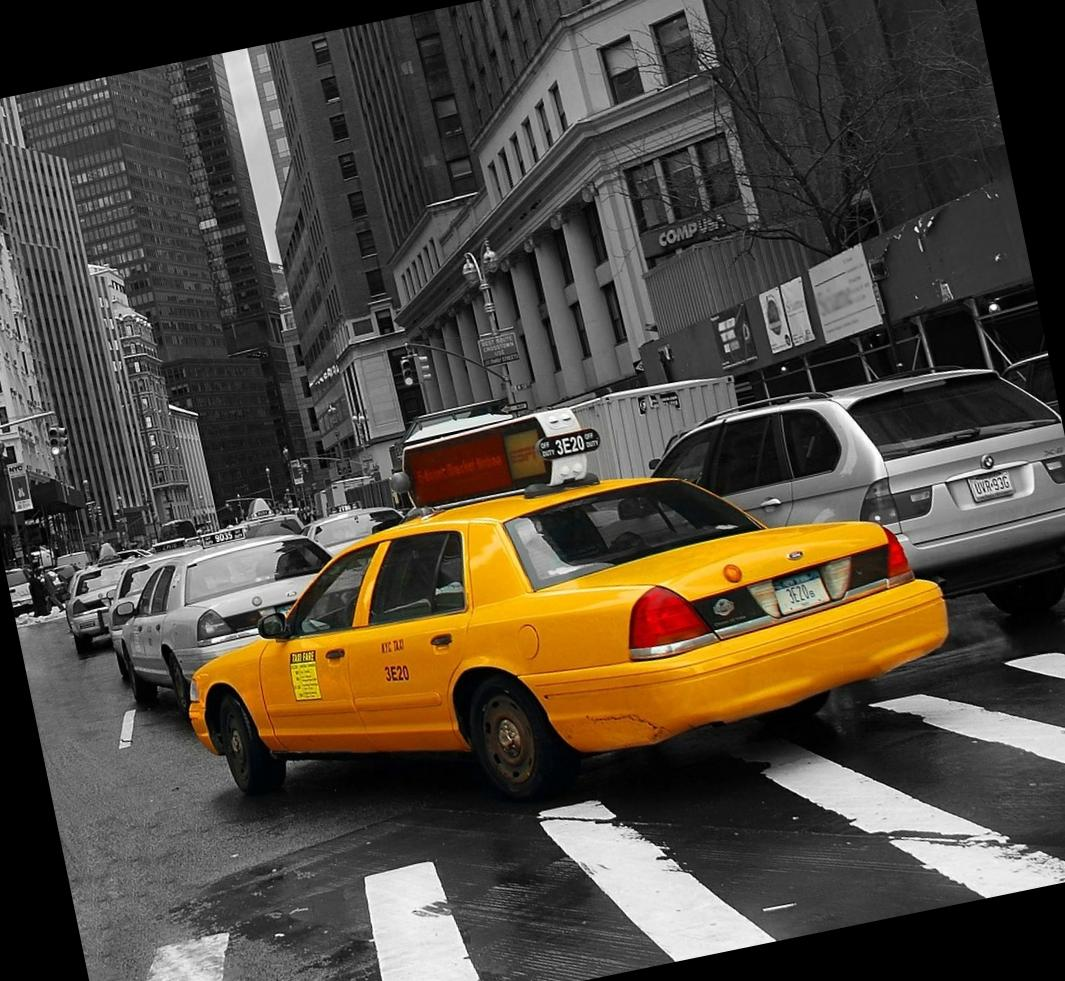taxi: (162, 480, 949, 794)
